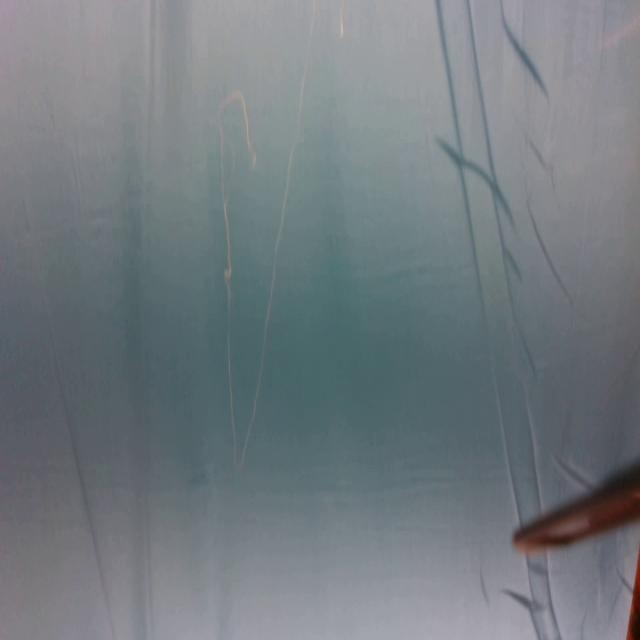crease: (434, 0, 546, 513), (22, 195, 115, 636), (500, 553, 562, 640)
